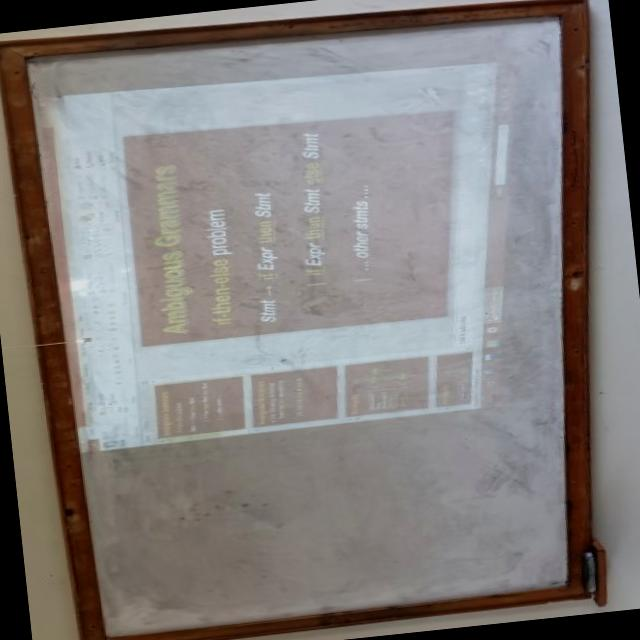Slide: (41, 56, 528, 452)
White-board: (16, 3, 578, 640)
